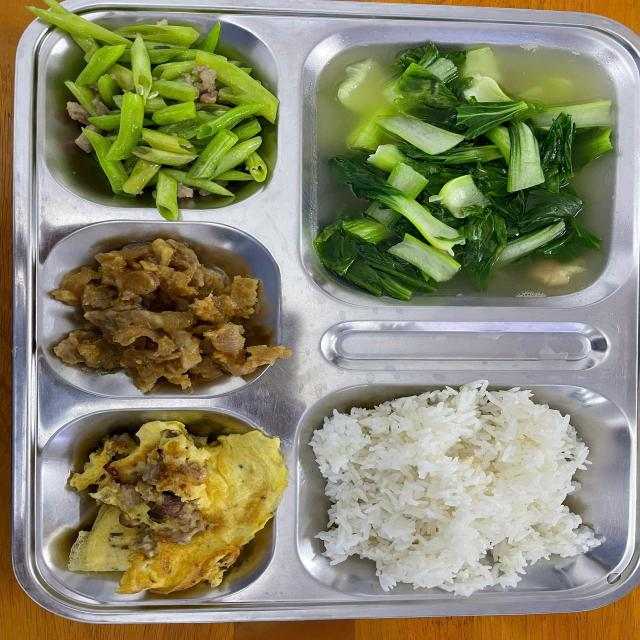canhrau: (314, 45, 617, 302)
dauque: (44, 16, 268, 205)
salad: (318, 396, 608, 584)
tomramthit: (52, 240, 278, 392)
trungluoc: (73, 421, 270, 592)
